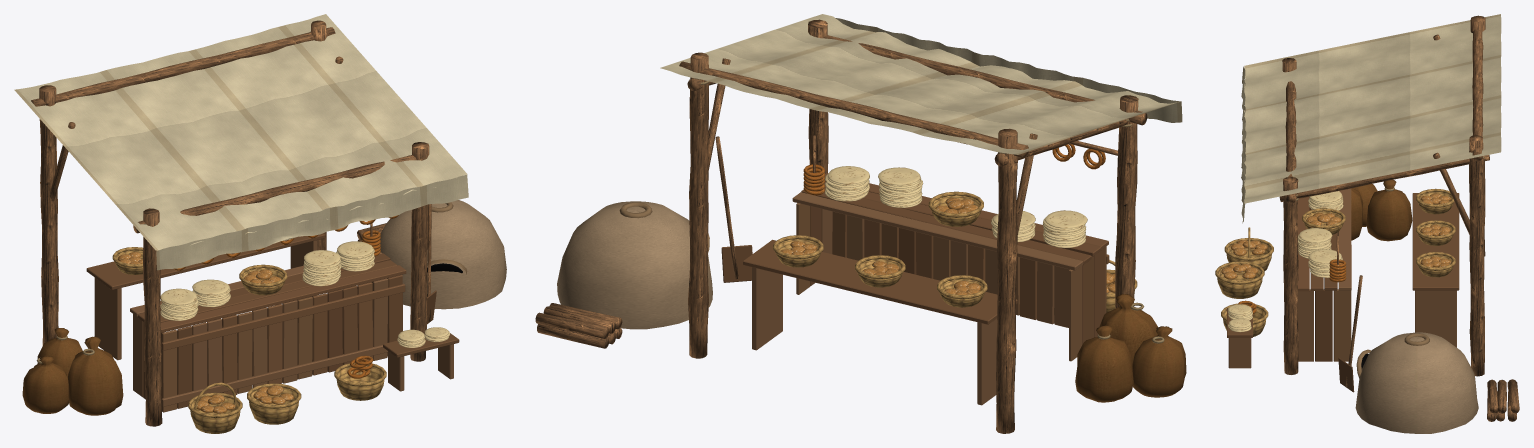
File: village-kiosk-2.glb
The picture shows the model from 3 angles, left to right: view 1: azimuth 30°, elevation 25°; view 2: azimuth 150°, elevation 25°; view 3: azimuth 270°, elevation 25°; orthographic projection. The views are drawn at different scales.
Visible parts, largest first — view 1: K2_Cloth, K2_Wood, K2_Props; view 2: K2_Wood, K2_Props, K2_Cloth; view 3: K2_Cloth, K2_Wood, K2_Props.
Boxes of the visible parts, bbox=[...] form: K2_Cloth: bbox=[14, 14, 468, 270]; K2_Wood: bbox=[31, 20, 459, 426]; K2_Props: bbox=[22, 105, 506, 433]; K2_Wood: bbox=[535, 19, 1147, 433]; K2_Props: bbox=[557, 78, 1186, 402]; K2_Cloth: bbox=[660, 14, 1182, 154]; K2_Cloth: bbox=[1241, 14, 1501, 223]; K2_Wood: bbox=[1227, 15, 1519, 421]; K2_Props: bbox=[1215, 156, 1484, 433].
Bounding box in the file's own units: 5.65 × 2.78 × 3.26.
3 materials, 3 textured.
